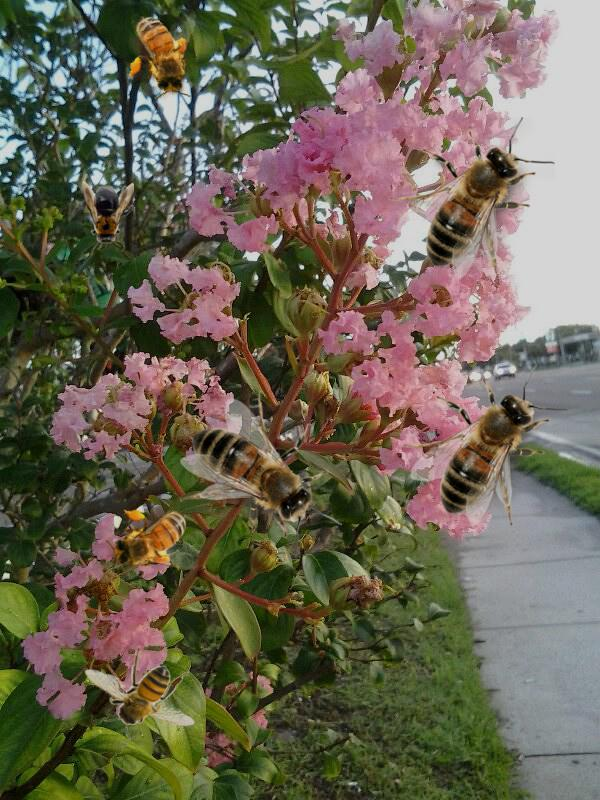Bee: (402, 364, 569, 526), (388, 117, 555, 279), (180, 390, 342, 557), (84, 646, 195, 740), (122, 2, 202, 103), (106, 506, 199, 574), (82, 181, 134, 249)
